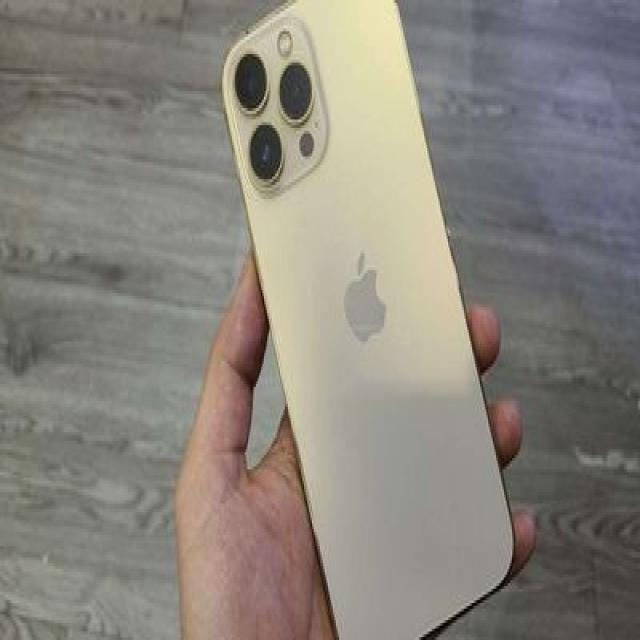gen_12_13: (216, 0, 518, 640)
